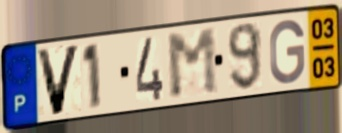1: (80, 41, 103, 112)
4: (134, 34, 165, 103)
9: (226, 21, 265, 94)
G: (268, 17, 307, 86)
M: (164, 26, 221, 103)
V: (34, 42, 83, 118)
